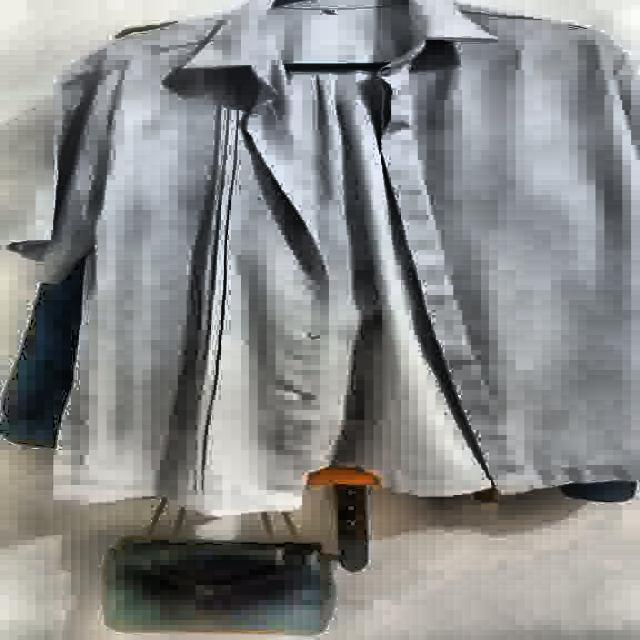clothes: (6, 0, 634, 526)
